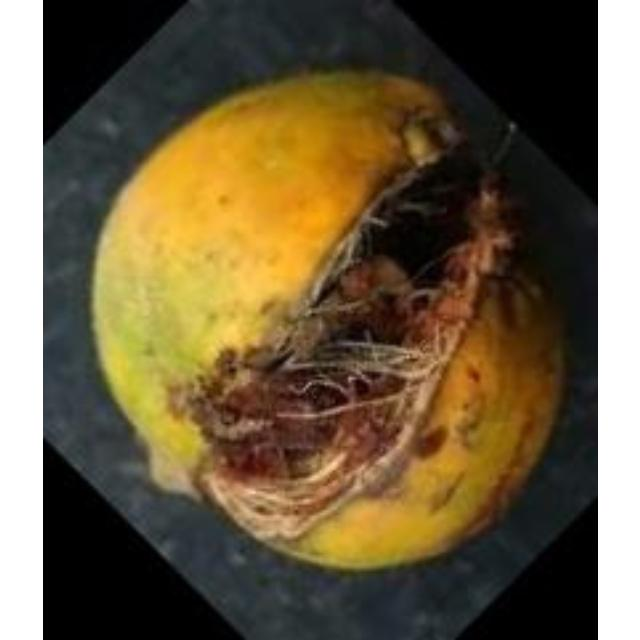damaged: (92, 72, 560, 566)
